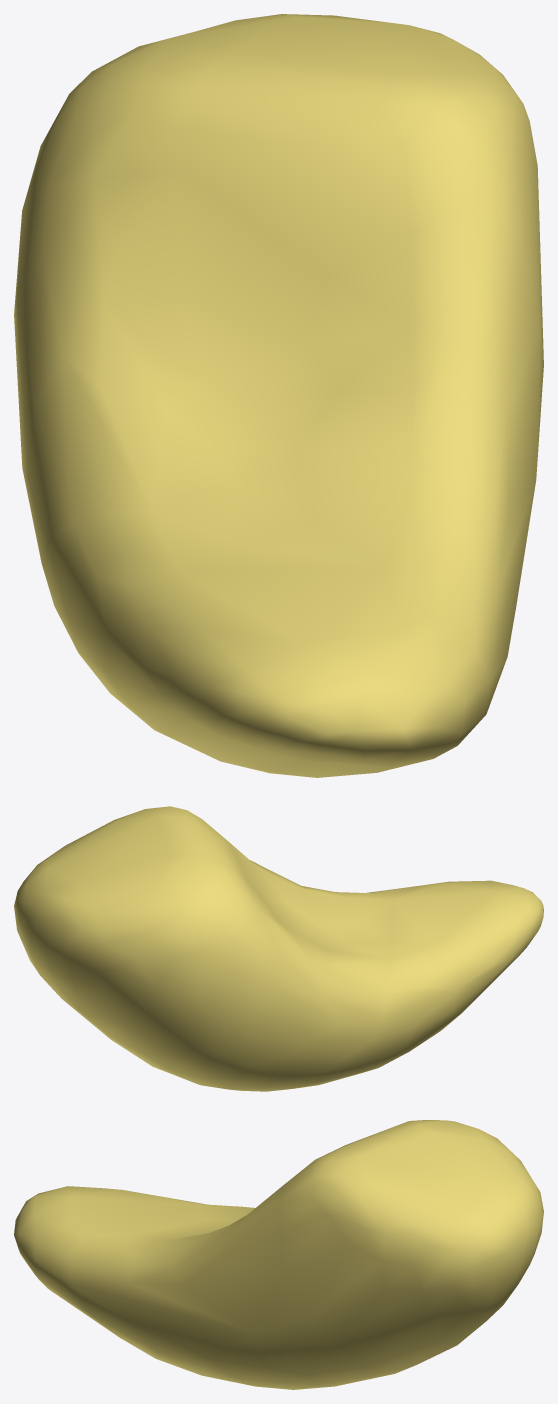
The model's file is lateral-geniculate-body-r.glb.
3 views of the same model, one above another, from view 1: azimuth 30°, elevation 25°; view 2: azimuth 150°, elevation 25°; view 3: azimuth 270°, elevation 25° (orthographic). The views are drawn at different scales.
Parts seen in each view (by area): view 1: Lateral geniculate body.r; view 2: Lateral geniculate body.r; view 3: Lateral geniculate body.r.
Part boxes in pixels (x1=…): Lateral geniculate body.r: x1=14, y1=14, x2=543, y2=777; Lateral geniculate body.r: x1=14, y1=806, x2=543, y2=1091; Lateral geniculate body.r: x1=14, y1=1120, x2=543, y2=1389.
Bounding box in the file's own units: 0.00822 × 0.00623 × 0.0114.
